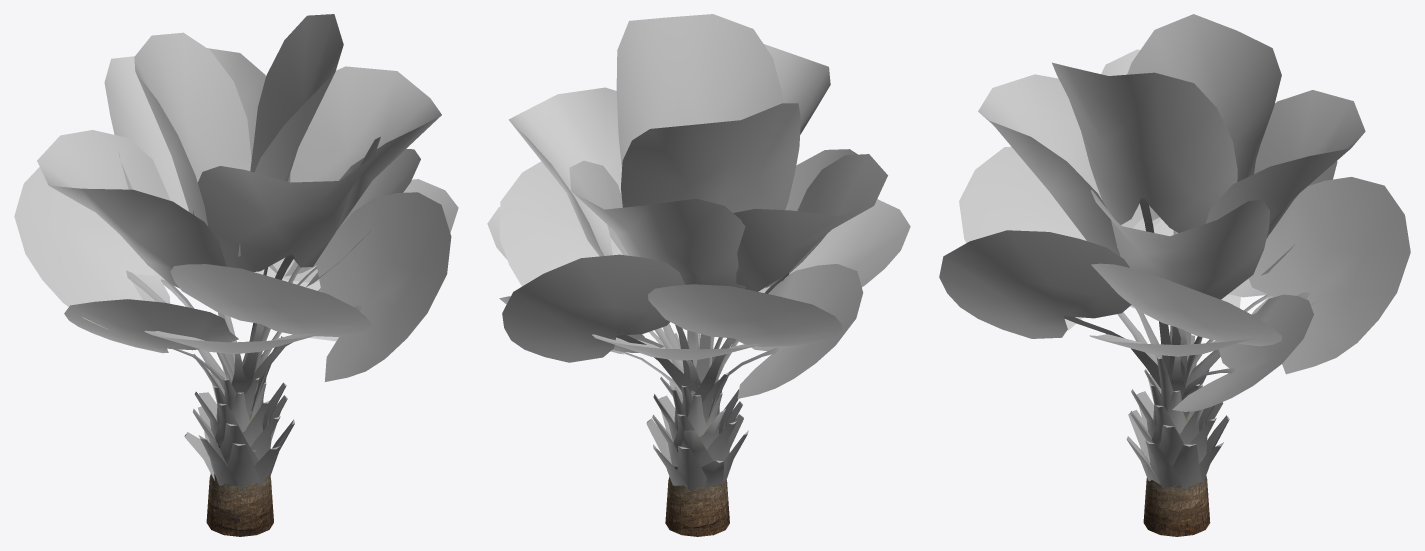
File: Bailey_palm.fbx
3 renders of one model, left to right at view 1: azimuth 30°, elevation 25°; view 2: azimuth 150°, elevation 25°; view 3: azimuth 270°, elevation 25°, orthographic. The views are drawn at different scales.
Parts seen in each view (by area): view 1: polySurface26; view 2: polySurface26; view 3: polySurface26.
Part boxes in pixels (x1,y1,x2,y2): polySurface26: (14,14,458,536); polySurface26: (487,14,910,536); polySurface26: (939,14,1410,536).
Bounding box in the file's own units: 28.96 × 34.83 × 30.38.
